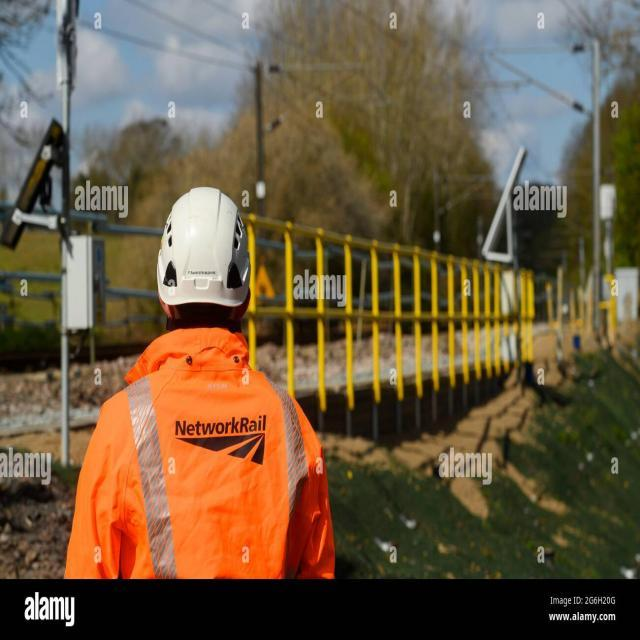reflective_jacket: (63, 333, 332, 580)
safety_helmet: (148, 180, 258, 315)
